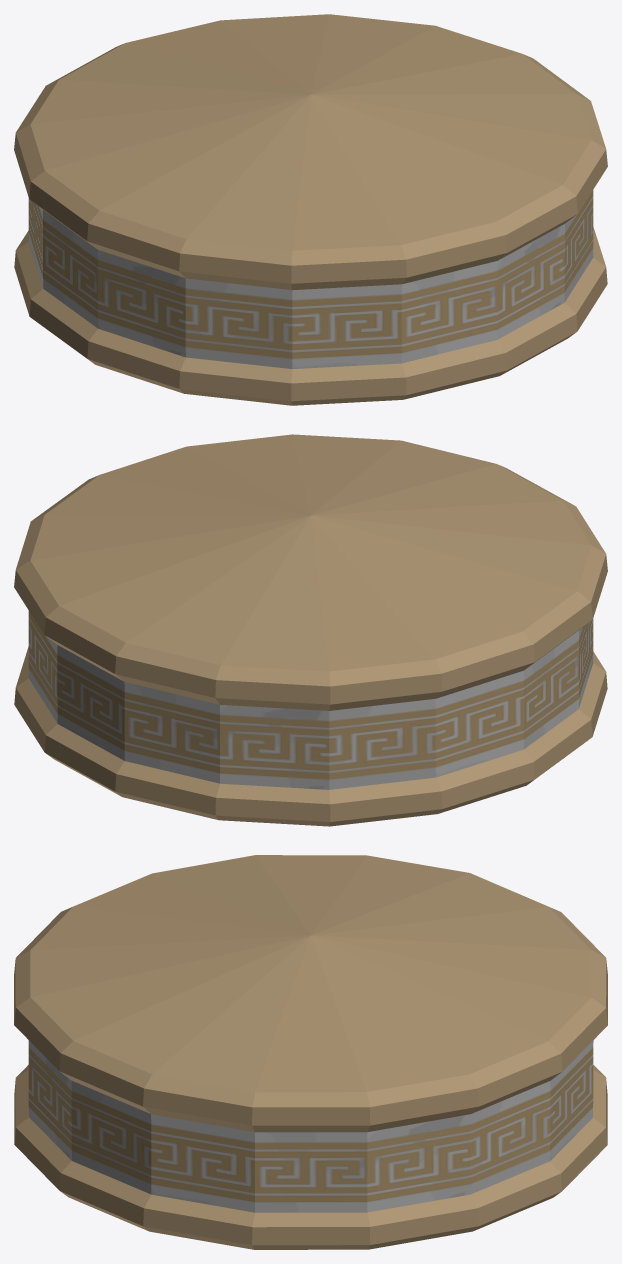
File: ancient_SM_Bld_Pillar_Monument_Trim_01.gltf
3 renders of one model, top to bottom at view 1: azimuth 30°, elevation 25°; view 2: azimuth 150°, elevation 25°; view 3: azimuth 270°, elevation 25°, orthographic.
Visible parts, largest first — view 1: SM_Bld_Pillar_Monument_Trim_01; view 2: SM_Bld_Pillar_Monument_Trim_01; view 3: SM_Bld_Pillar_Monument_Trim_01.
Part boxes in pixels (bbox=[...]): SM_Bld_Pillar_Monument_Trim_01: bbox=[14, 14, 607, 405]; SM_Bld_Pillar_Monument_Trim_01: bbox=[14, 434, 607, 826]; SM_Bld_Pillar_Monument_Trim_01: bbox=[14, 855, 607, 1249].
Bounding box in the file's own units: 1.55 × 0.6653 × 1.55.
Materials: 1 (1 with a texture image).
